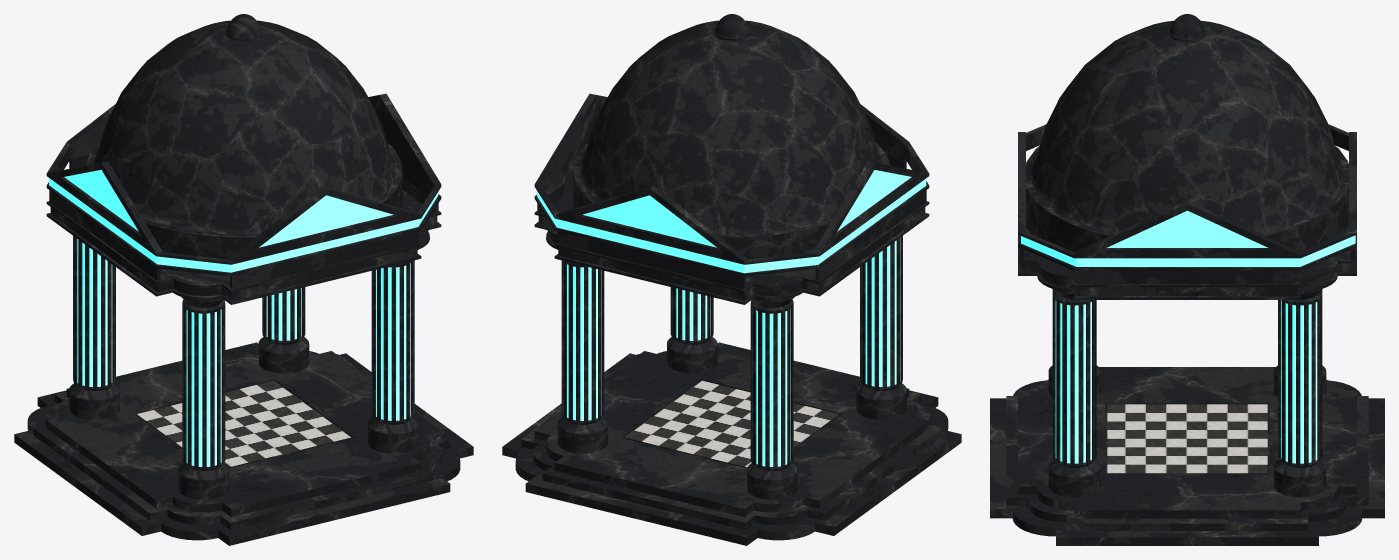
File: temple5.glb
3 views of the same model, side by side, from view 1: azimuth 30°, elevation 25°; view 2: azimuth 150°, elevation 25°; view 3: azimuth 270°, elevation 25° (orthographic). The views are drawn at different scales.
Parts seen in each view (by area): view 1: Dome.007; view 2: Dome.007; view 3: Dome.007.
Boxes of the visible parts, box(x1,y1,x2,y2) form: Dome.007: box(14, 14, 473, 545); Dome.007: box(502, 14, 961, 545); Dome.007: box(990, 14, 1384, 545).
Bounding box in the file's own units: 5.69 × 7.11 × 5.69.
Materials: 3 (2 with a texture image).
